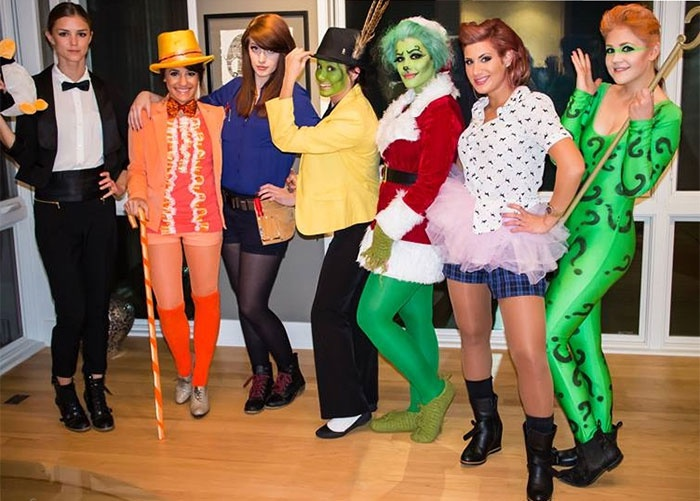bad: (160, 60, 204, 103), (458, 46, 501, 89), (386, 41, 429, 84), (597, 36, 640, 79), (50, 22, 93, 65), (242, 36, 285, 79), (305, 58, 341, 94)
